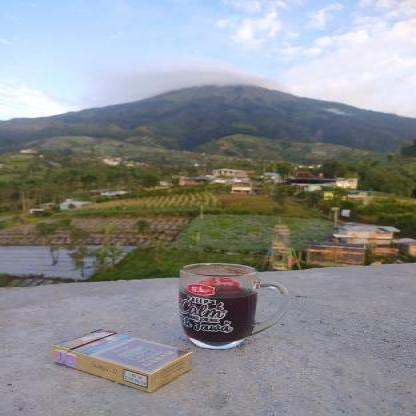objects: (52, 330, 192, 393)
